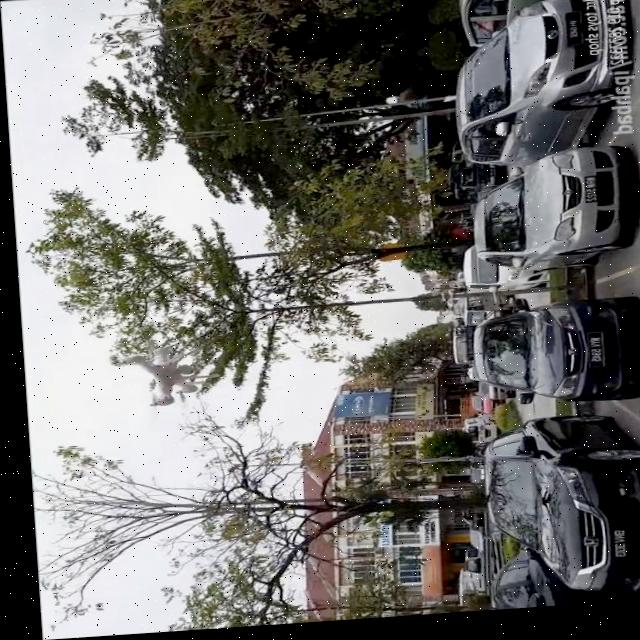drone: (117, 340, 215, 412)
